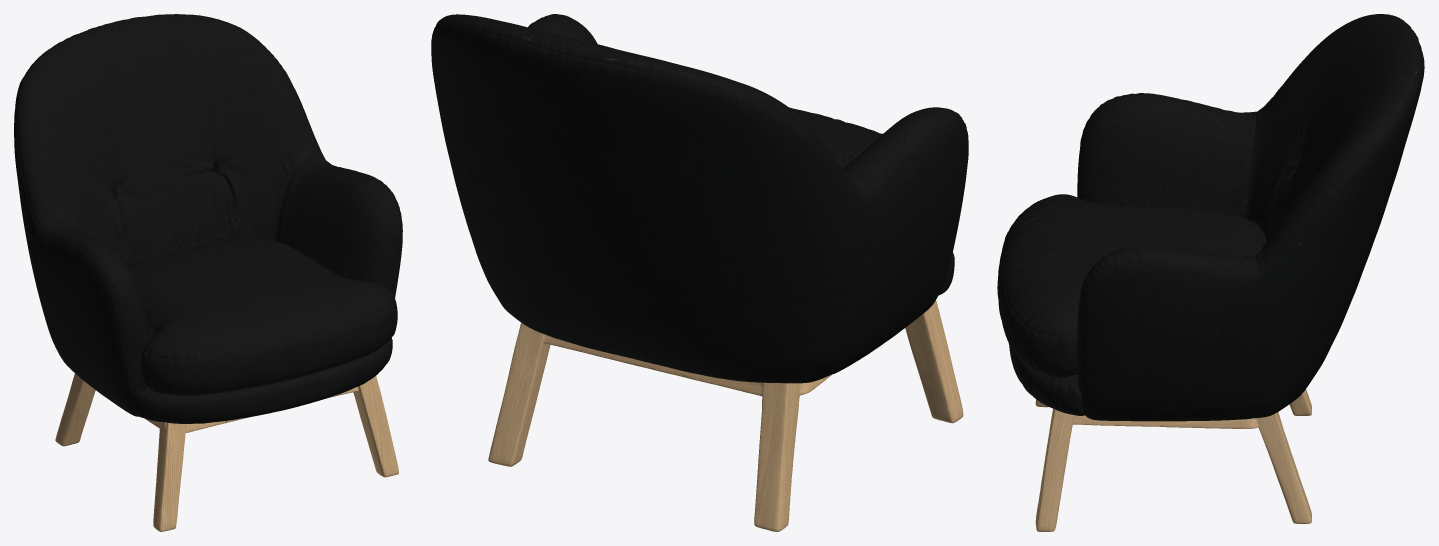
File: black-chair.glb
3 views of the same model, side by side, from view 1: azimuth 30°, elevation 25°; view 2: azimuth 150°, elevation 25°; view 3: azimuth 270°, elevation 25° (orthographic). The views are drawn at different scales.
Size of the model in its own units: 1.67 by 1.9 by 1.78.
1 material, 1 textured.
